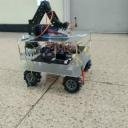cart: (17, 30, 92, 94)
